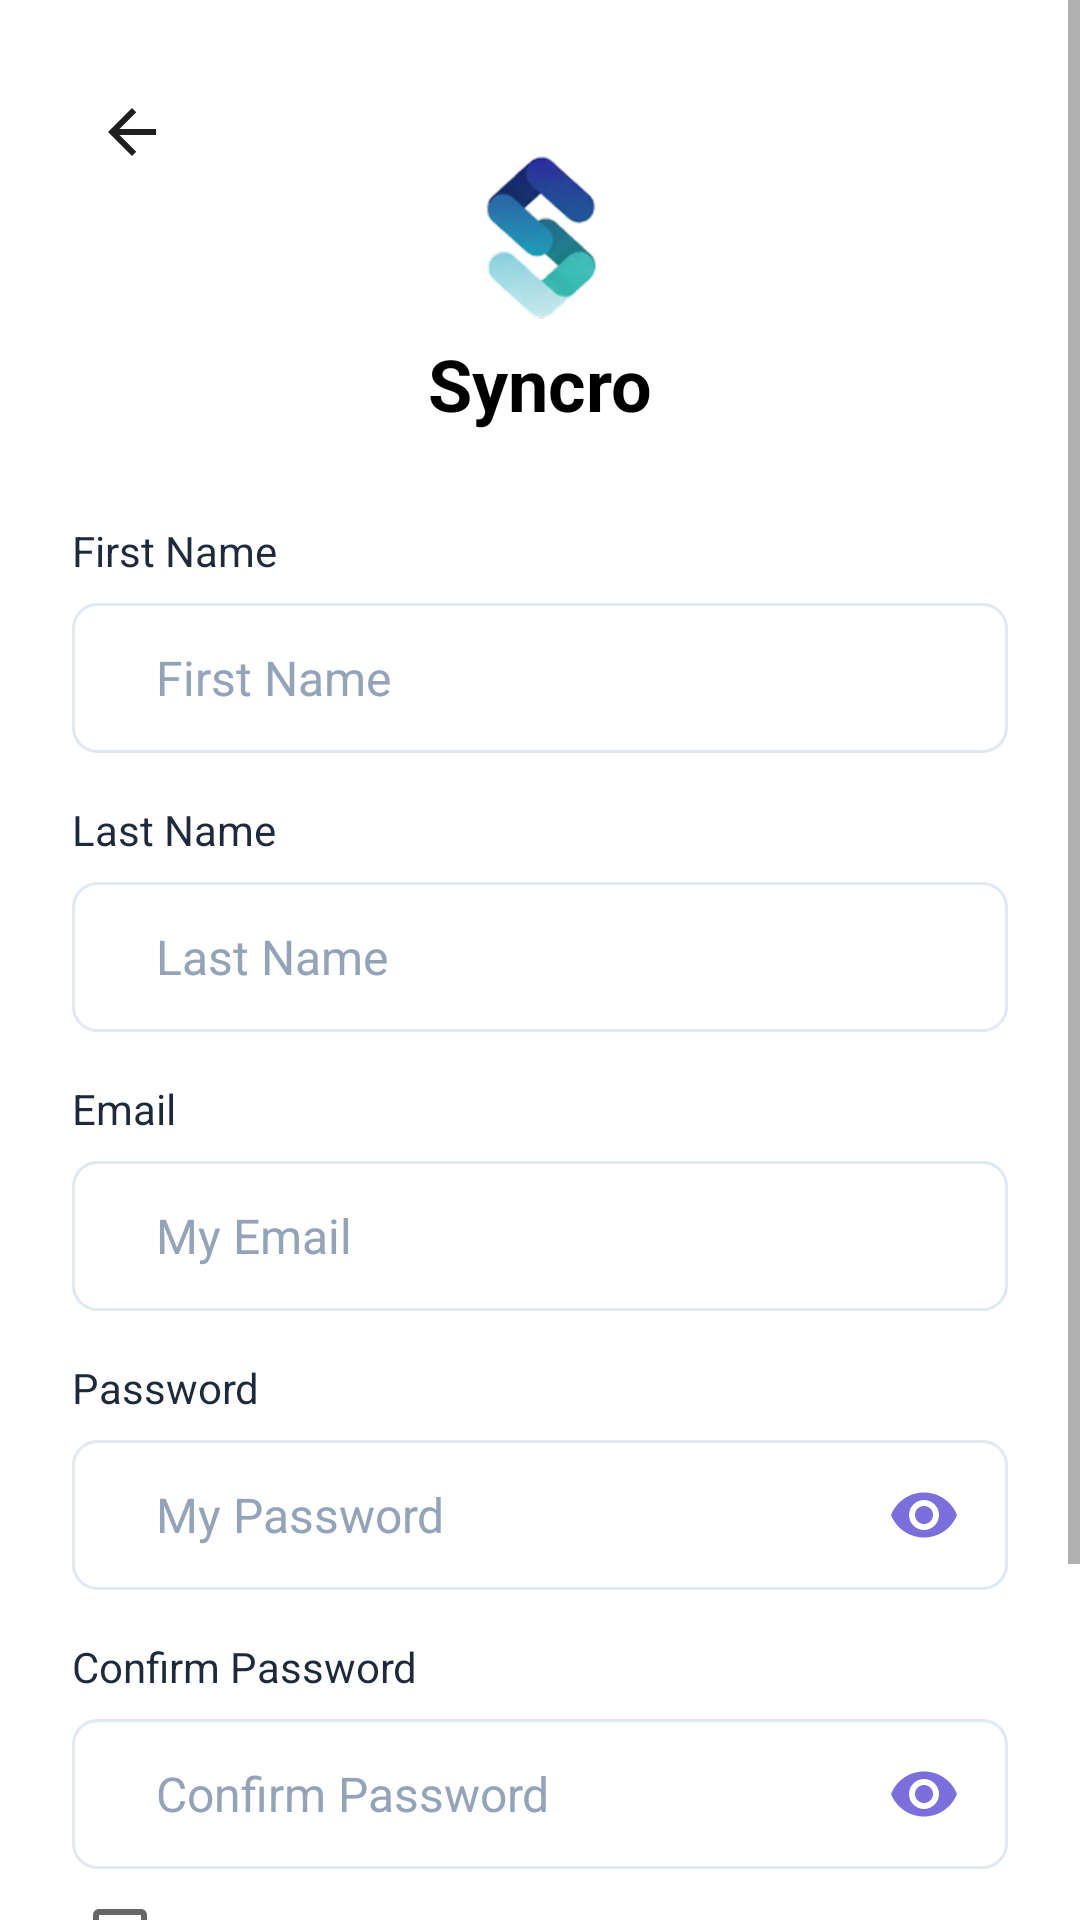

Where to tap for icons on this 1080x1920 app screen, as [x,y]:
Back: [132,132]
